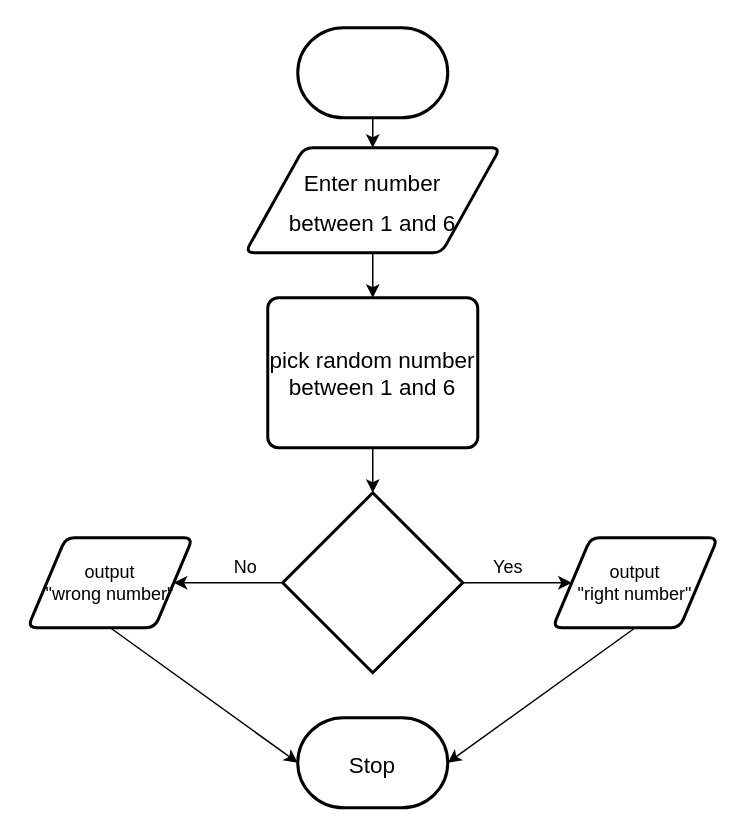
Image size: 744x834. Some labels were removed from this diagram. Here are the shapes that lost their labels. From the top down, the centre of each, then its label:
At point 372,72: "Start".
At point 372,582: "if (number == input)".
